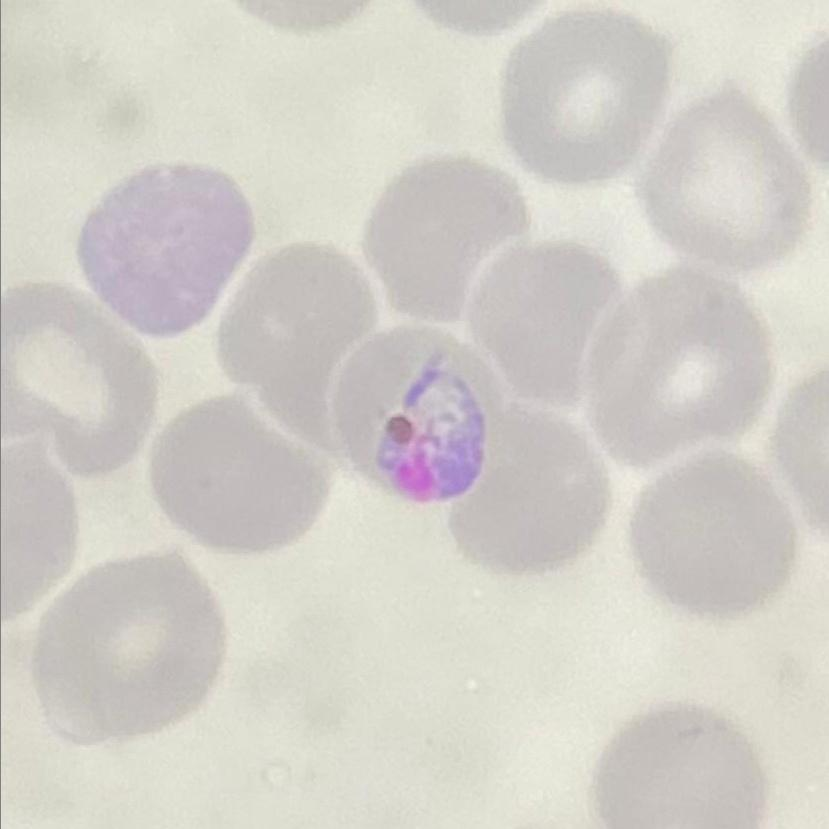Infected: (329, 327, 491, 493)
Uninfected: (32, 548, 226, 744), (588, 267, 772, 467), (216, 245, 380, 441), (2, 282, 161, 476), (637, 91, 807, 270), (79, 162, 255, 334), (501, 10, 673, 183), (626, 452, 794, 617), (154, 397, 329, 554), (362, 157, 530, 318), (449, 415, 608, 575), (473, 242, 621, 406), (593, 708, 761, 826)
